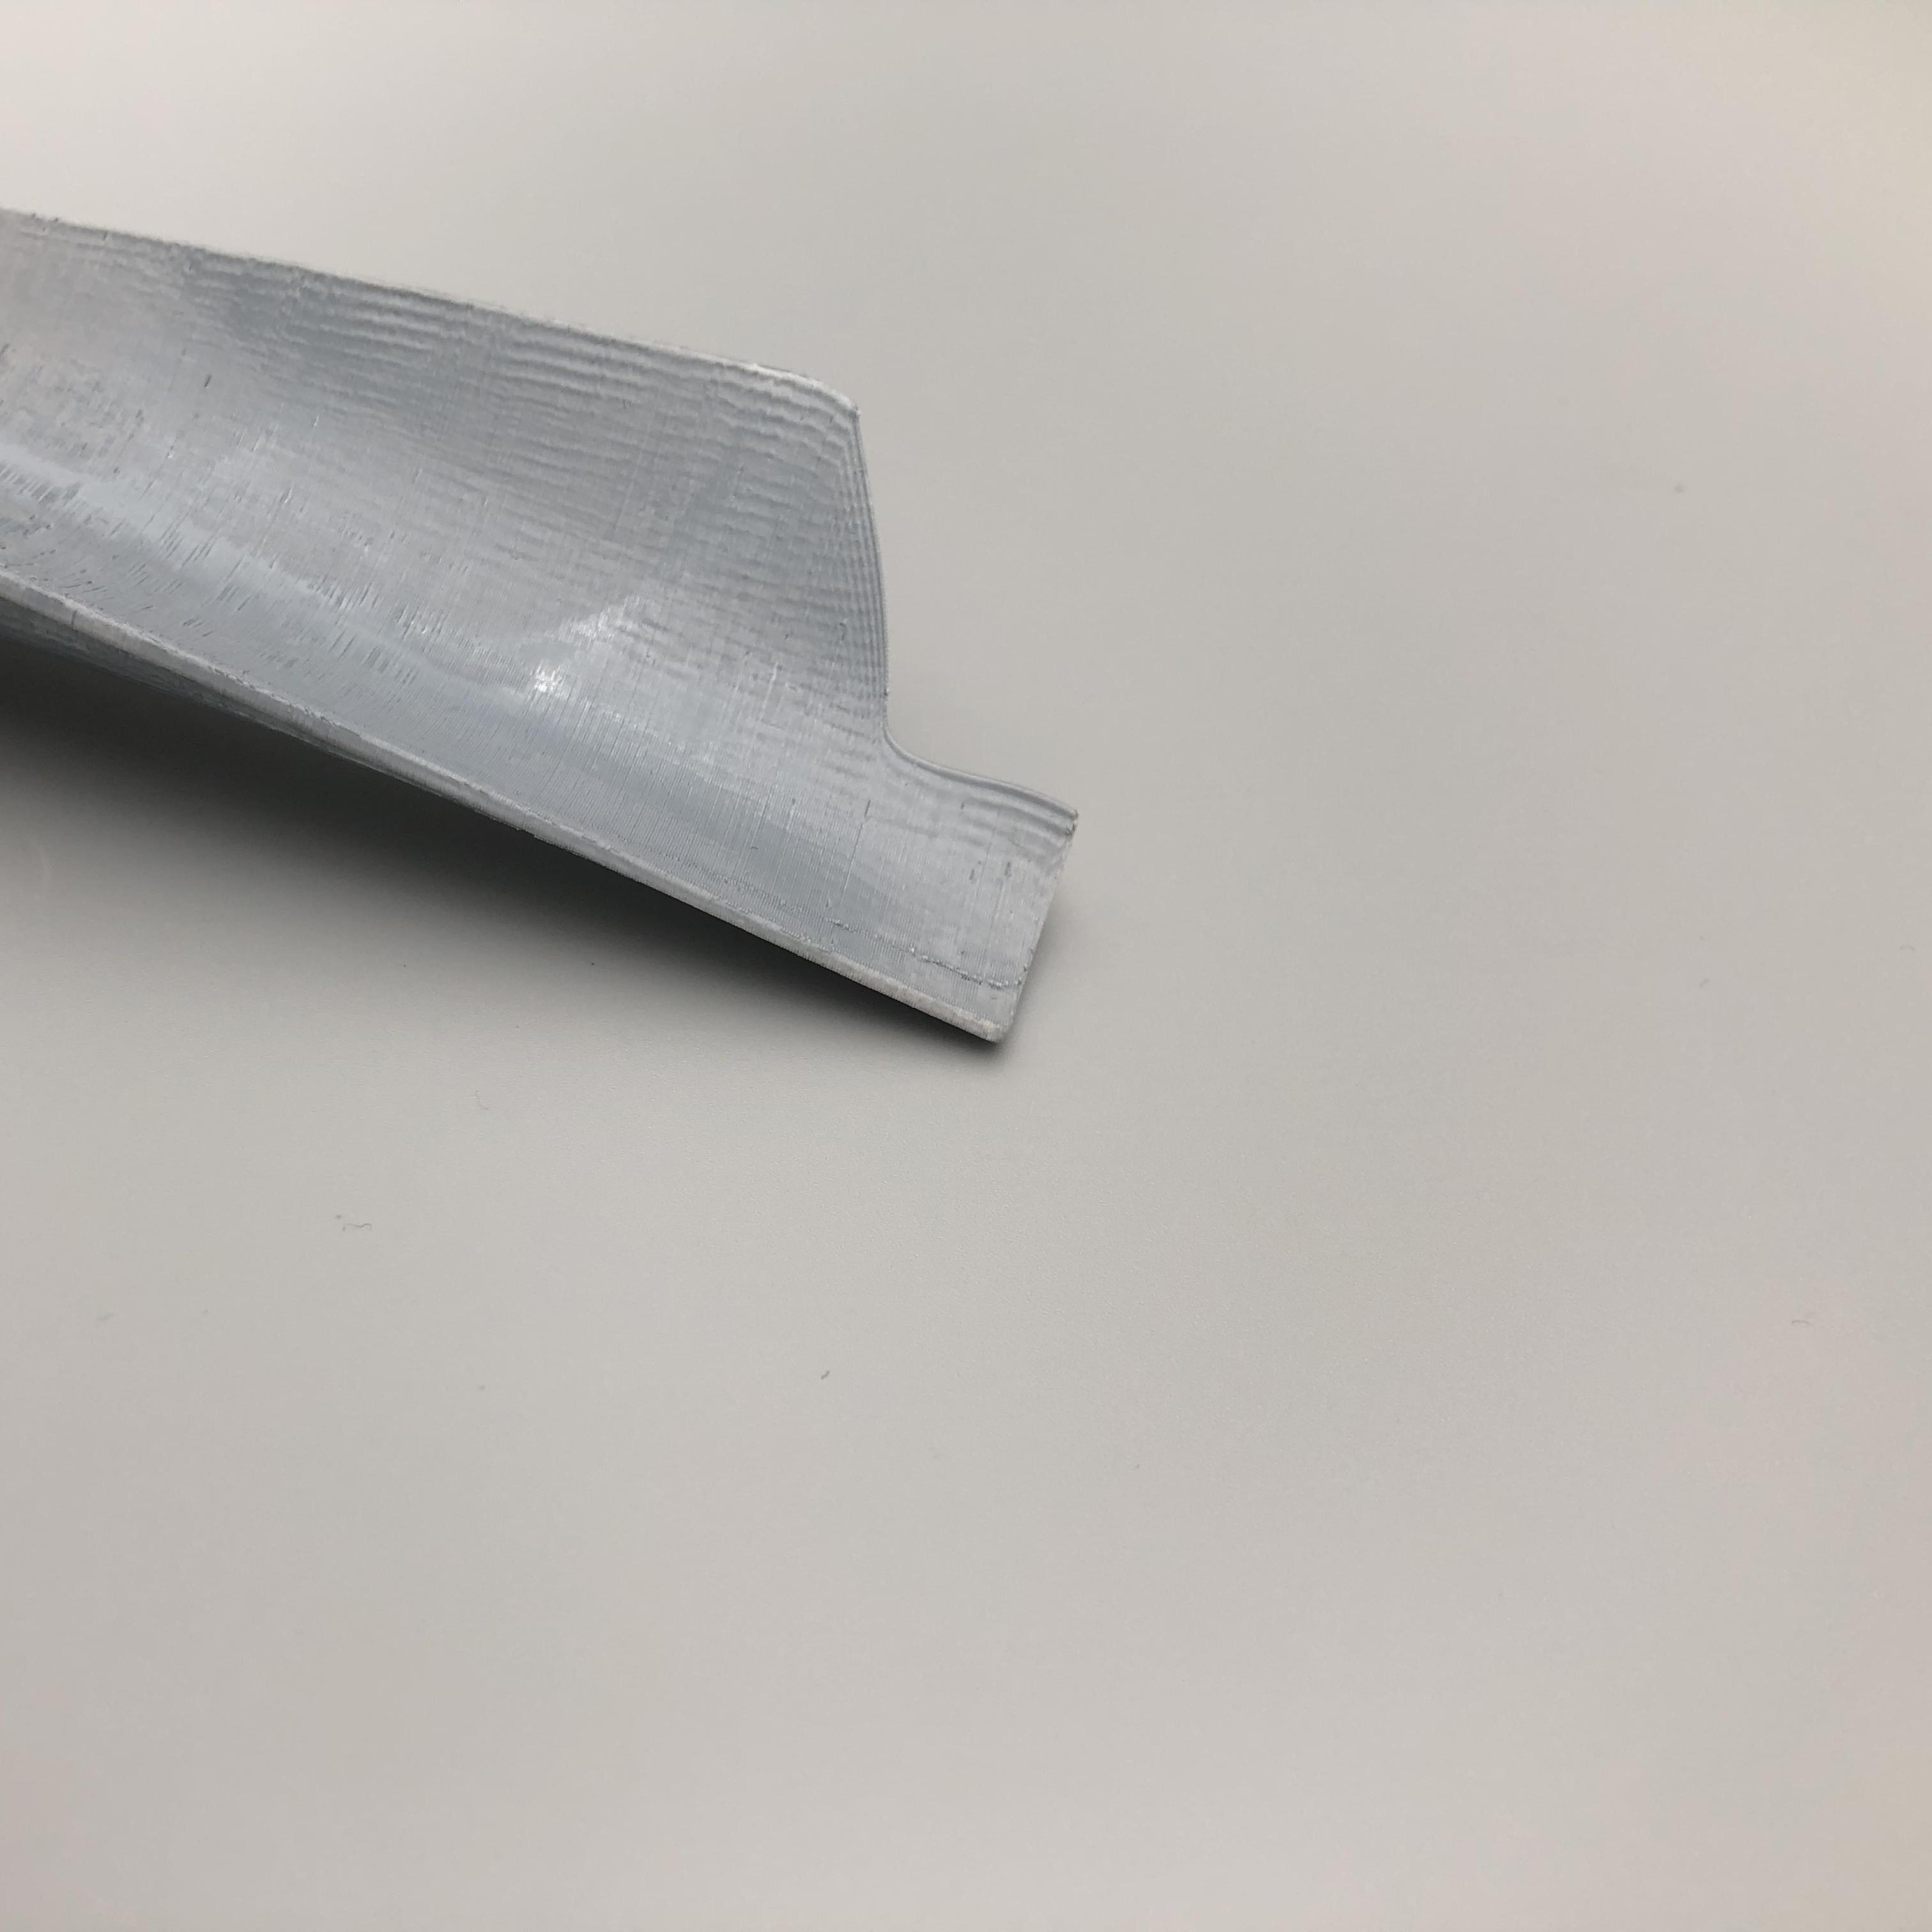fracture: (819, 419, 1072, 826)
